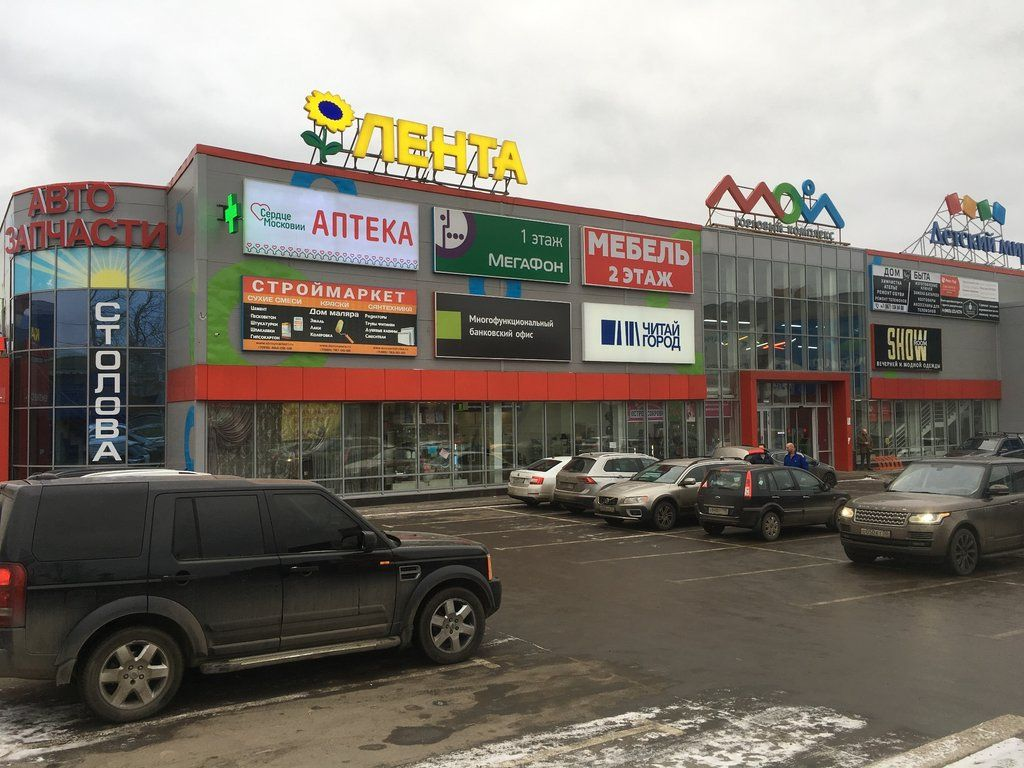Car: (0, 476, 503, 723), (838, 457, 1024, 575), (697, 464, 847, 541), (594, 458, 751, 531), (553, 453, 655, 510), (507, 457, 569, 506), (762, 449, 837, 487), (948, 432, 1024, 460), (84, 467, 214, 477), (33, 468, 123, 478)
